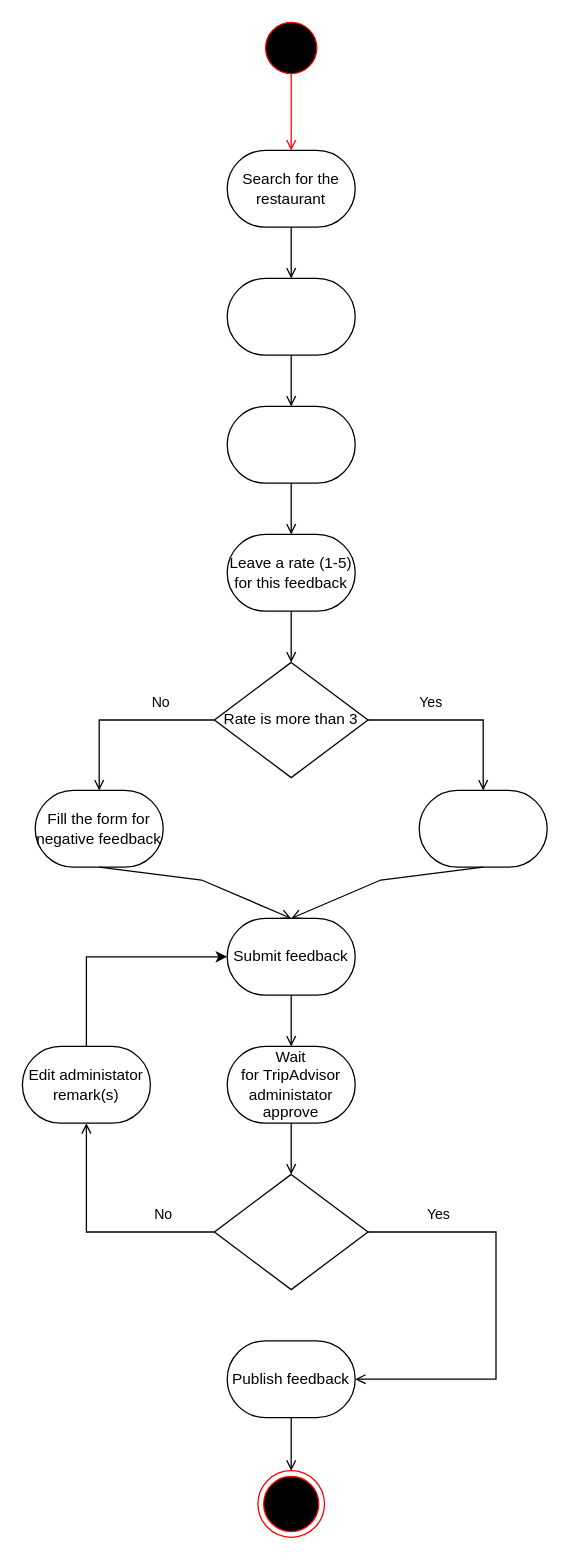
Image size: 570x1560. Some labels were removed from this diagram. The box of each missing label's shape, as (x1, y1, x2, y2) in pixels:
Feedback was approved: (213, 1173, 368, 1290)
Fill the form for positive feedback: (418, 789, 547, 867)
Provide feedback: (226, 405, 355, 483)
Select the restaurant: (226, 277, 355, 355)
